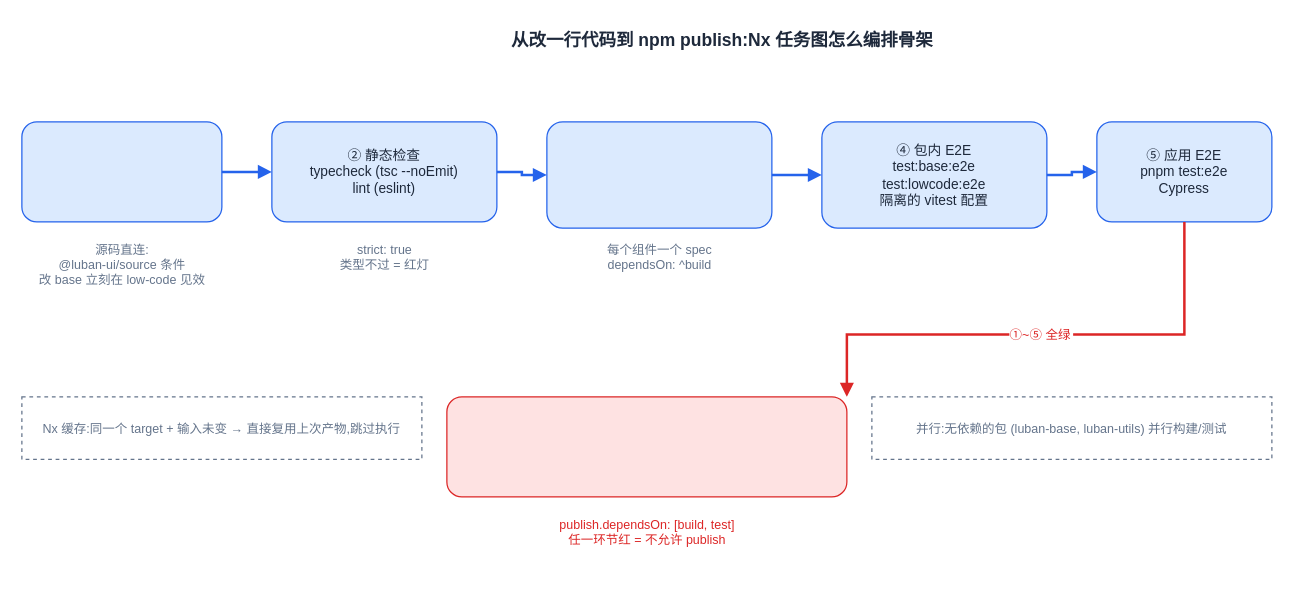
Image size: 1294x593. Some labels were removed from this diagram. Each missing label, with the box of its shape:
① 开发 pnpm dev pnpm storybook: (21, 121, 222, 222)
③ 单元测试 pnpm test:base pnpm test:lowcode Vitest + jsdom: (546, 121, 772, 228)
⑥ build + publish nx run-many -t build npm publish --access public: (446, 396, 847, 497)
